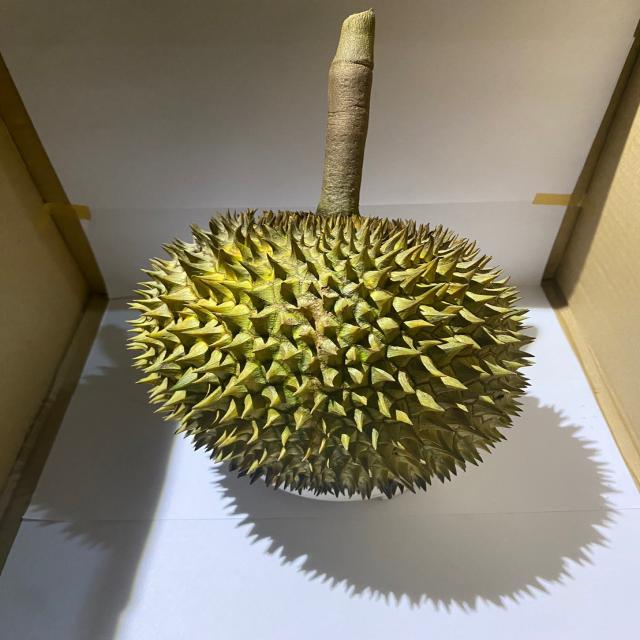immature: (124, 206, 542, 507)
